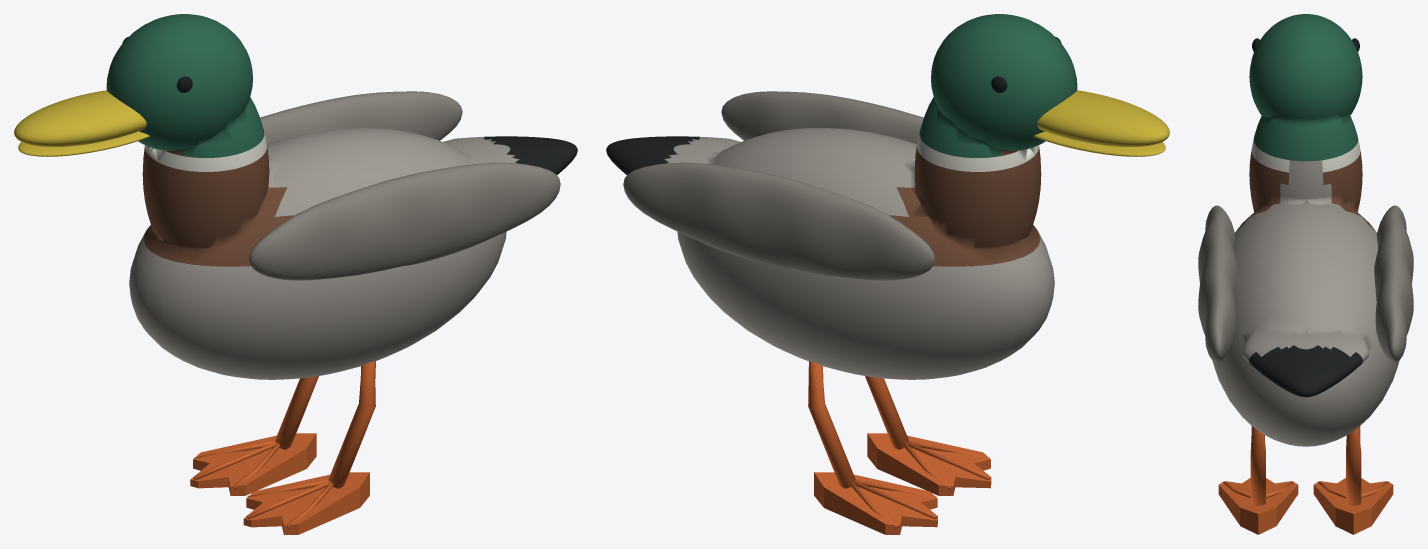
3 renders of one model, left to right at view 1: azimuth 30°, elevation 25°; view 2: azimuth 150°, elevation 25°; view 3: azimuth 270°, elevation 25°, orthographic. The views are drawn at different scales.
Parts seen in each view (by area): view 1: Continuous body neck head, Fold-out wing -1, Fold-out wing 1, Upper broad flattened bill, Complete webbed foot -1, Complete webbed foot 1, Leg -1, Leg 1, Lower bill complete surface; view 2: Continuous body neck head, Fold-out wing 1, Fold-out wing -1, Upper broad flattened bill, Complete webbed foot -1, Complete webbed foot 1, Leg 1, Leg -1, Lower bill complete surface; view 3: Continuous body neck head, Fold-out wing -1, Fold-out wing 1, Complete webbed foot 1, Complete webbed foot -1, Leg 1, Leg -1.
Part boxes in pixels (box(x1,y1,x2,y2)): Continuous body neck head: box(106, 14, 577, 379); Fold-out wing -1: box(249, 162, 560, 280); Fold-out wing 1: box(260, 91, 462, 143); Upper broad flattened bill: box(14, 90, 146, 146); Complete webbed foot -1: box(243, 472, 369, 534); Complete webbed foot 1: box(190, 433, 316, 495); Leg -1: box(328, 361, 375, 488); Leg 1: box(275, 376, 318, 449); Lower bill complete surface: box(18, 131, 149, 156); Continuous body neck head: box(606, 14, 1077, 379); Fold-out wing 1: box(623, 162, 934, 280); Fold-out wing -1: box(721, 91, 923, 143); Upper broad flattened bill: box(1037, 90, 1169, 146); Complete webbed foot -1: box(867, 433, 991, 495); Complete webbed foot 1: box(814, 472, 937, 534); Leg 1: box(808, 361, 855, 488); Leg -1: box(865, 376, 908, 449); Lower bill complete surface: box(1034, 131, 1165, 156); Continuous body neck head: box(1212, 14, 1399, 446); Fold-out wing -1: box(1198, 205, 1237, 362); Fold-out wing 1: box(1374, 205, 1413, 362); Complete webbed foot 1: box(1313, 478, 1393, 534); Complete webbed foot -1: box(1218, 478, 1298, 534); Leg 1: box(1346, 426, 1361, 505); Leg -1: box(1250, 426, 1265, 505).
Size of the model in its own units: 0.449 by 0.38 by 0.1676.
